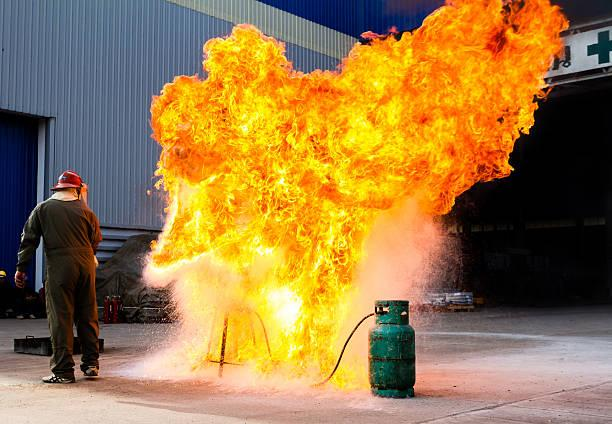Fire: (192, 30, 351, 348)
